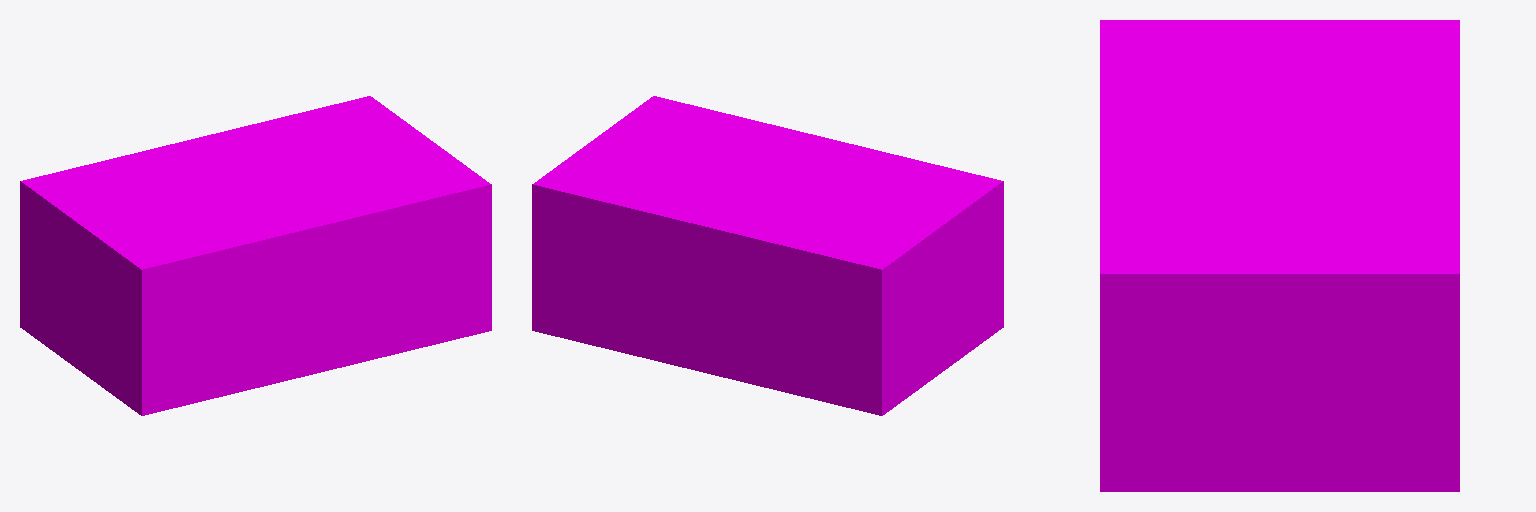
robot.urdf — wall10:
<?xml version="1.0"?>
<robot name="wall10">
	<link name="base">
	<inertial>
        	 <origin xyz="0 0 0" rpy="0 0 0"/>
        	 <mass value="3"/>
        	 <inertia ixx="0.000683333"  ixy="0"  ixz="0" iyy="0.000683333" iyz="0" izz="0.000683333" />
       </inertial>
		<visual>
			<origin xyz="0 0 0" rpy="0 0 0" />
			<geometry>
				<box size="0.05 0.03 0.02" />
			</geometry>
			<material>
				<color rgba="1 0 1 1" />
			</material>
		</visual>
	</link>
</robot>

--- Facts derived from the render (not from the file) ---
The picture shows the robot from 3 angles, left to right: view 1: azimuth 30°, elevation 25°; view 2: azimuth 150°, elevation 25°; view 3: azimuth 270°, elevation 25°; orthographic projection.
Robot: wall10 — 1 links, 0 joints (none); root link base; default pose: all joints at 0.
Links seen in each view (by area): view 1: base; view 2: base; view 3: base.
Link boxes in pixels (box(x1,y1,x2,y2)): base: box(20, 96, 491, 415); base: box(532, 96, 1003, 415); base: box(1100, 20, 1459, 491).
Bounding box of the posed robot: 0.05 × 0.03 × 0.02 m (x, y, z).
Geometry: primitives only (box / cylinder / sphere), no mesh files.
